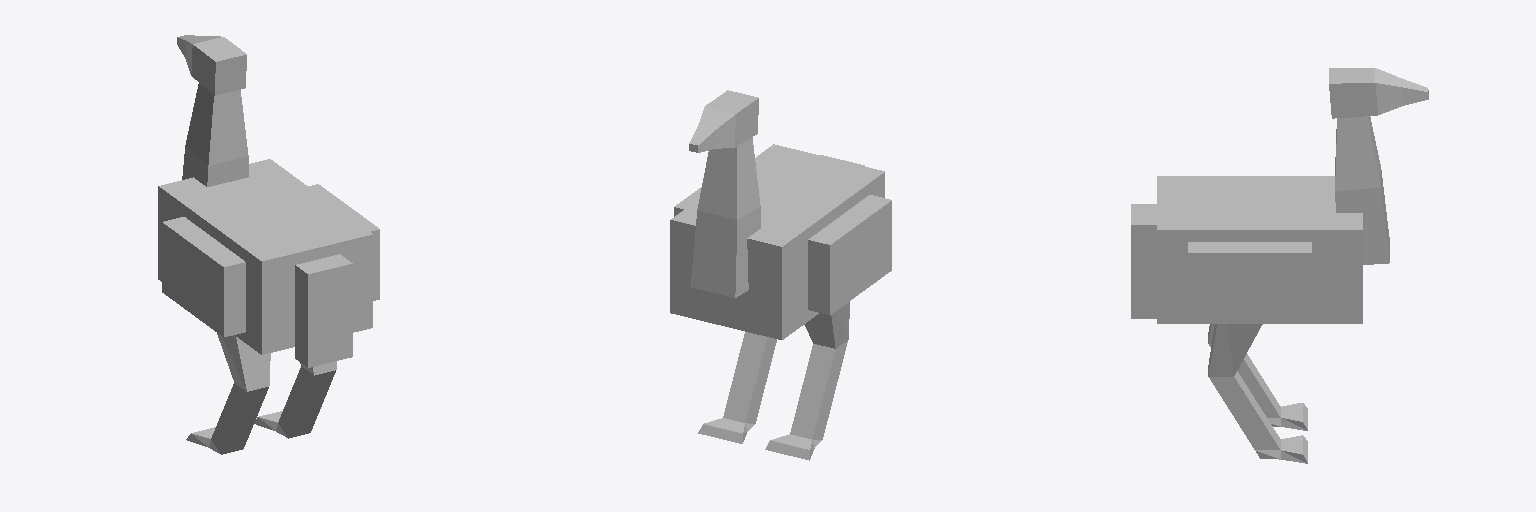
The model's file is Ostrich_000001.obj.
3 renders of one model, left to right at view 1: azimuth 30°, elevation 25°; view 2: azimuth 150°, elevation 25°; view 3: azimuth 270°, elevation 25°, orthographic.
Visible parts, largest first — view 1: Cube_Cube.001; view 2: Cube_Cube.001; view 3: Cube_Cube.001.
Boxes of the visible parts, box(x1,y1,x2,y2) form: Cube_Cube.001: box(158, 35, 379, 454); Cube_Cube.001: box(670, 90, 891, 460); Cube_Cube.001: box(1131, 68, 1428, 463).
Size of the model in its own units: 0.7008 by 1.55 by 1.15.